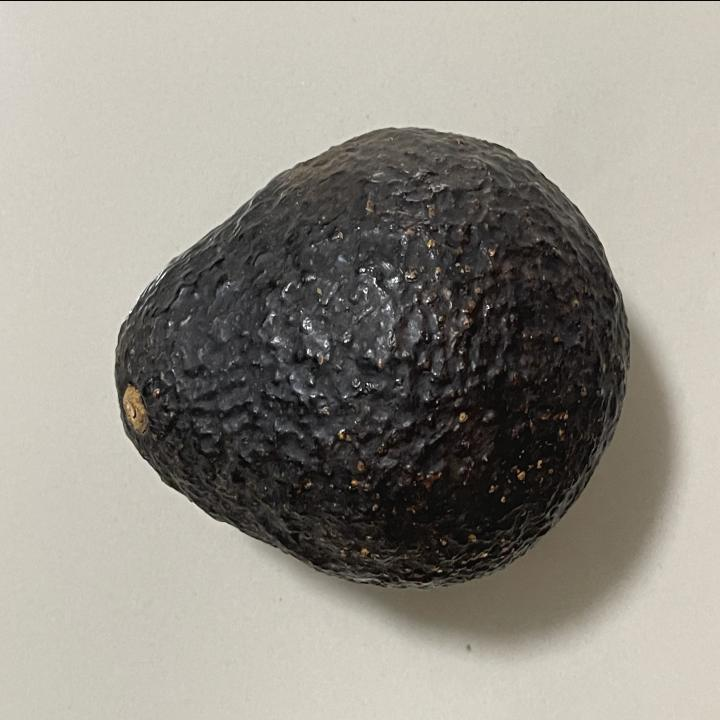Level3: (108, 115, 638, 599)
